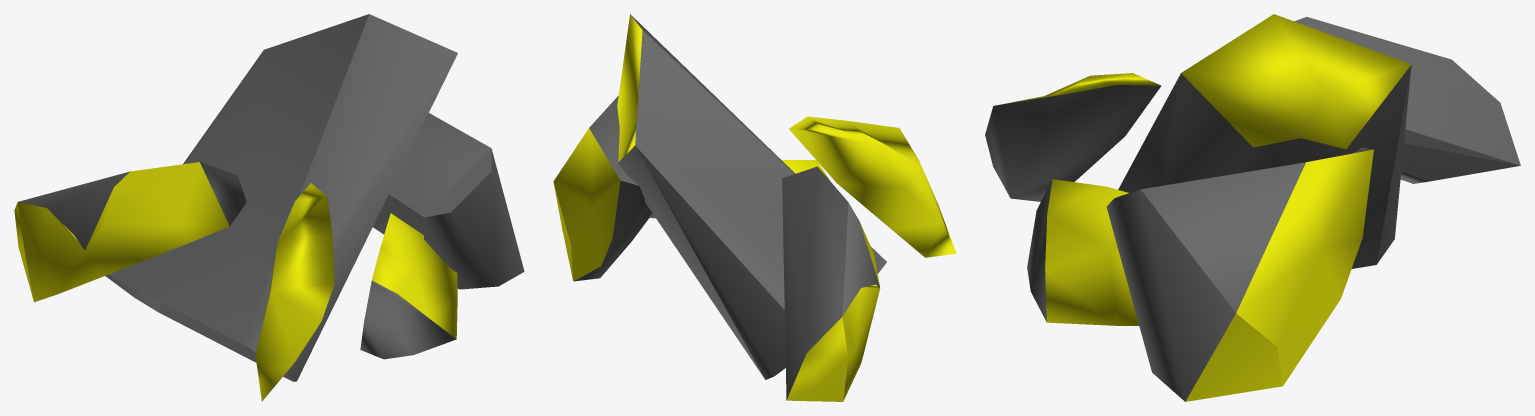
Rendered from Rubble.fbx.
3 views of the same model, side by side, from view 1: azimuth 30°, elevation 25°; view 2: azimuth 150°, elevation 25°; view 3: azimuth 270°, elevation 25° (orthographic). The views are drawn at different scales.
Visible parts, largest first — view 1: Rubble; view 2: Rubble; view 3: Rubble.
Boxes of the visible parts, box(x1,y1,x2,y2) form: Rubble: box(14, 14, 524, 401); Rubble: box(553, 14, 956, 401); Rubble: box(985, 14, 1520, 401).
Size of the model in its own units: 1958 by 1406 by 1874.
